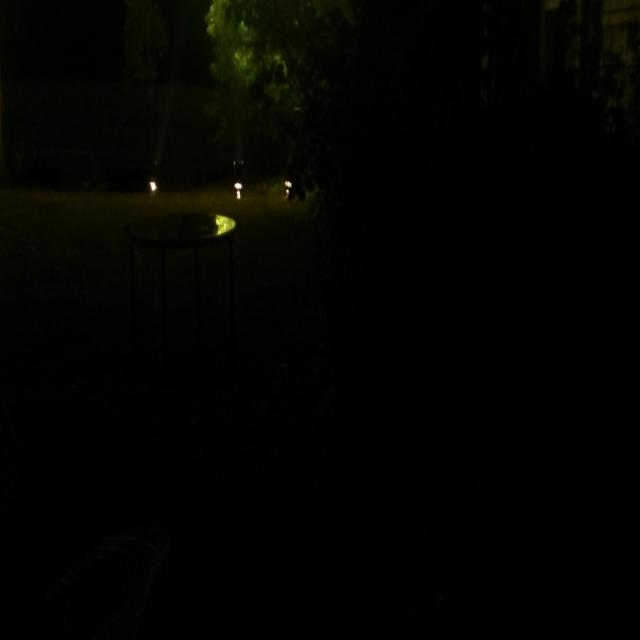Table: (115, 202, 258, 305)
